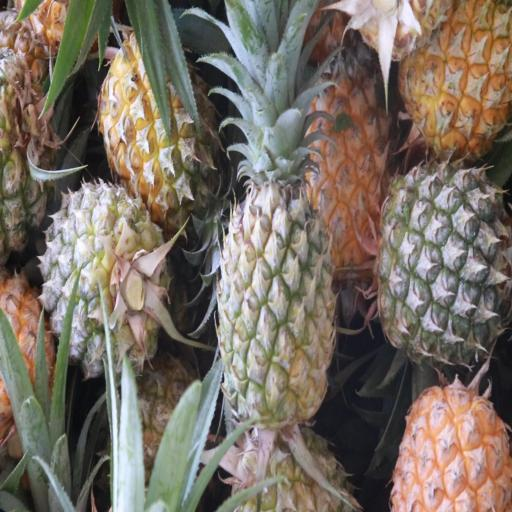------------------------------: (100, 28, 222, 220), (42, 182, 165, 366)
Pineapple - v8 v1: (304, 48, 390, 264), (401, 0, 512, 153), (391, 384, 512, 512)
